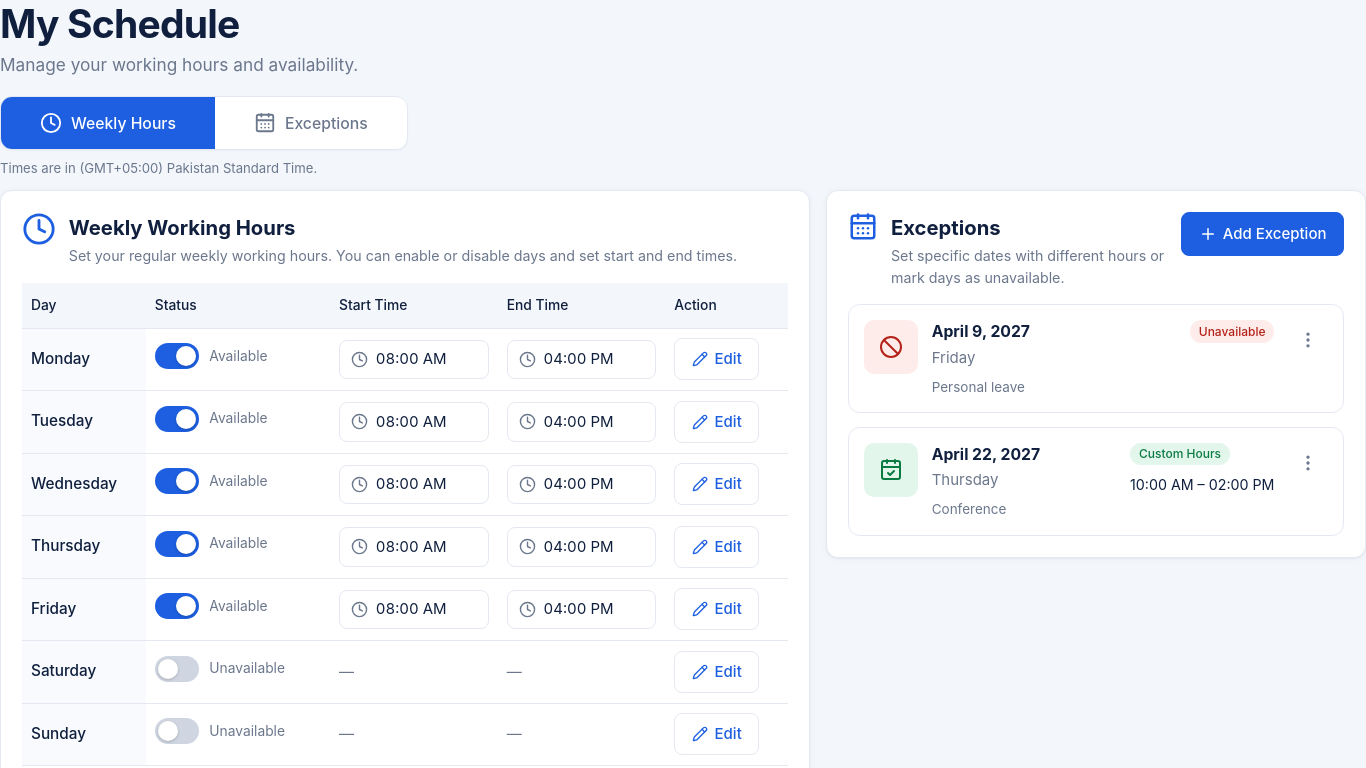
Test: weekly working hours › switching on a day without hours asks for them first
This screenshot has width=1366, height=768.
Click the switch named "Saturday available".
click(177, 669)  # box [155,656,199,682]
(page scrolled)
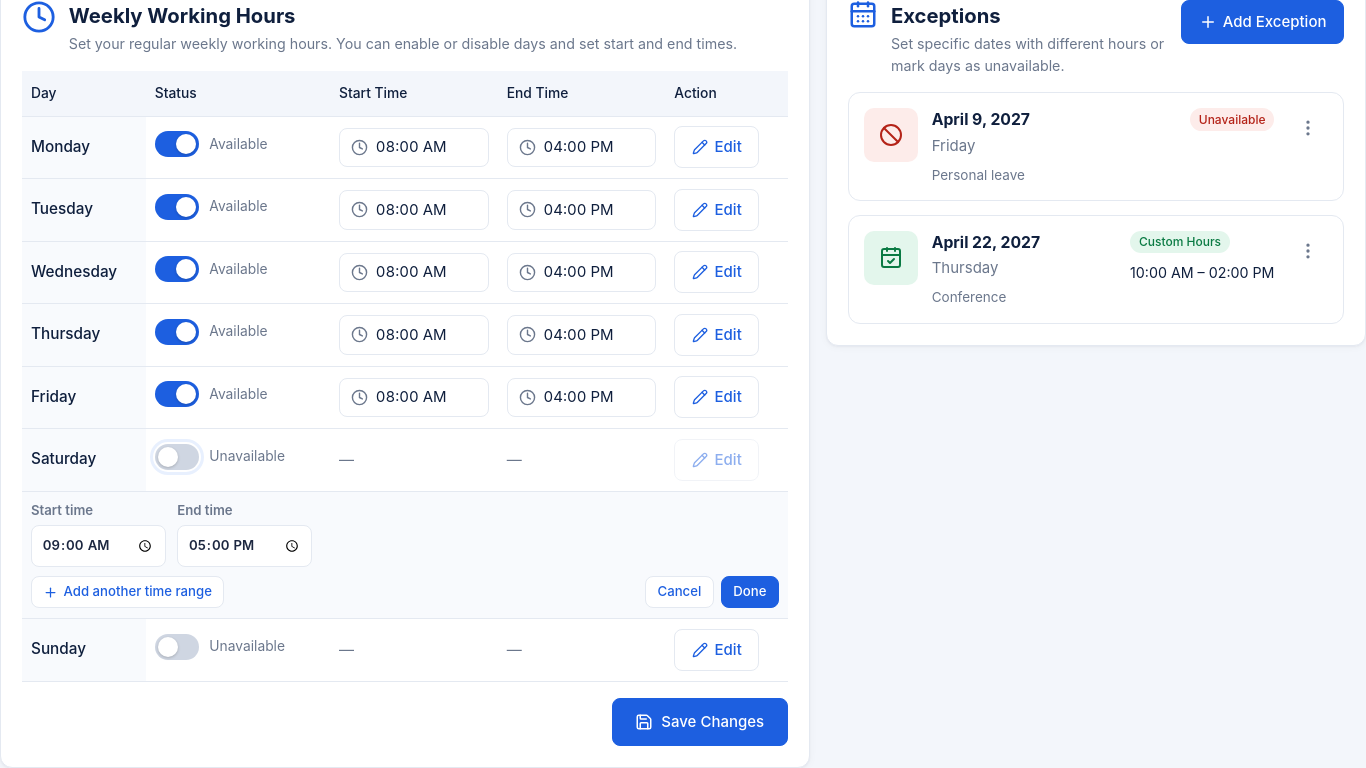
Expected: the row "Saturday" shows "Unavailable", [209,448,285,464]
Expected: the time field named "Saturday start time" holds "09:00", [31,525,166,567]
Click the button "Done".
click(750, 592)  # box [721,576,779,608]
(page scrolled)
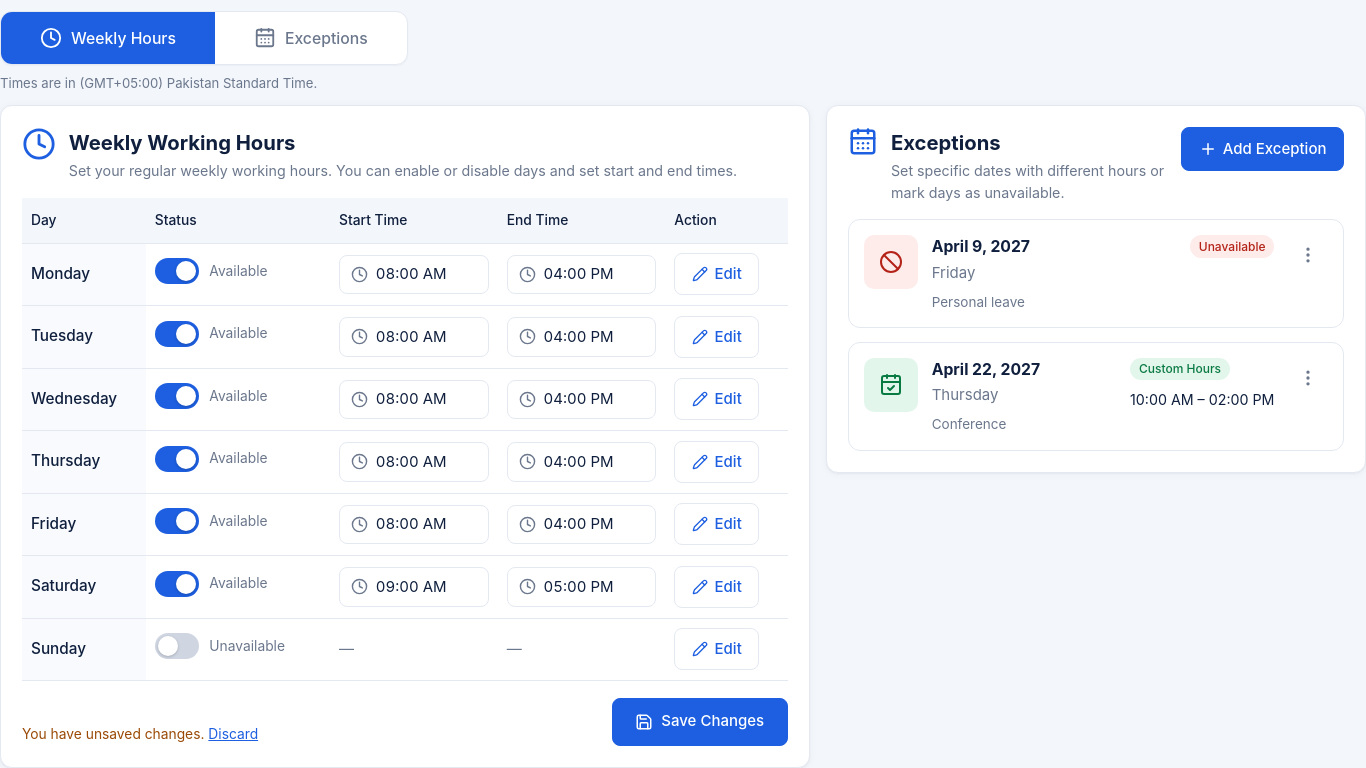
Expected: the row "Saturday" shows "Available", [209,575,268,591]
Expected: the row "Saturday" shows "09:00 AM", [376,577,447,596]
